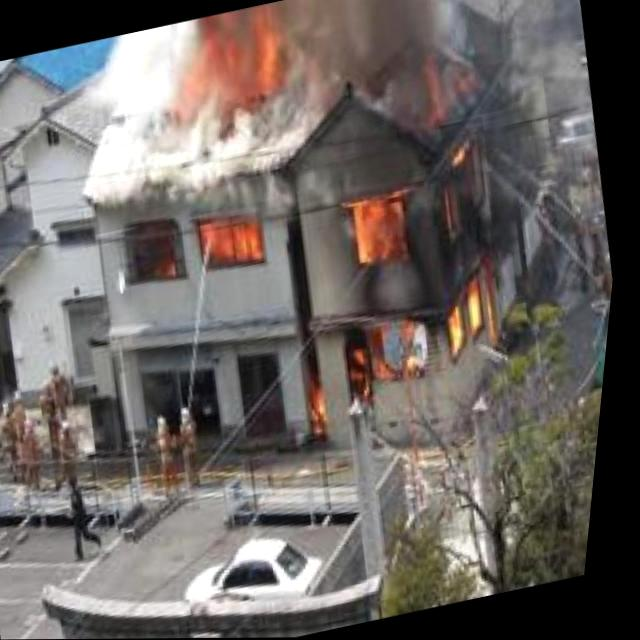fire: (242, 65, 586, 447), (143, 0, 309, 130), (157, 208, 271, 284)
